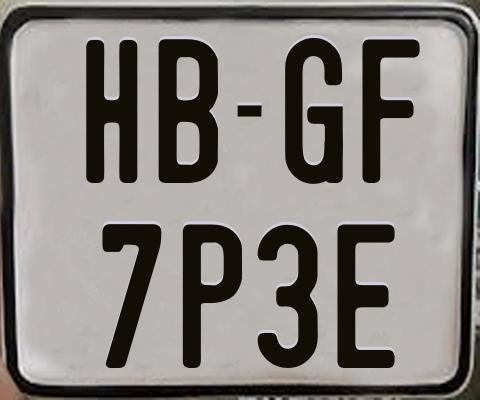3: (255, 224, 316, 373)
7: (102, 221, 164, 370)
B: (157, 39, 221, 184)
E: (337, 224, 396, 370)
F: (362, 36, 425, 181)
G: (285, 38, 347, 186)
H: (83, 37, 140, 181)
P: (183, 221, 244, 368)
